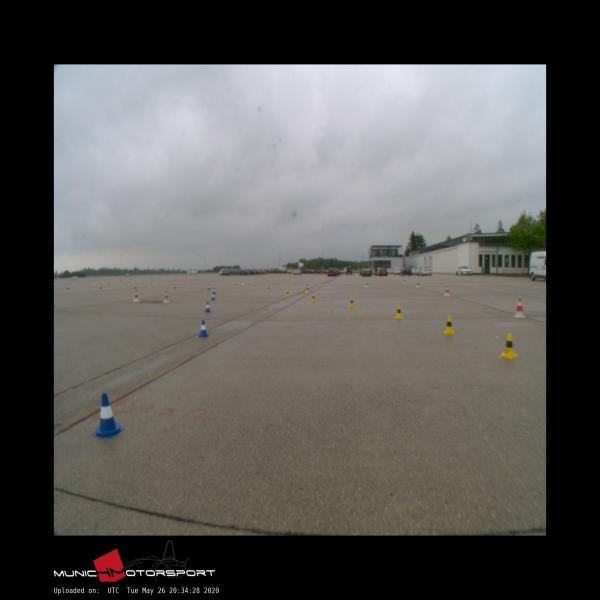blue_cone: (92, 393, 124, 439), (198, 320, 209, 336), (204, 301, 211, 312), (211, 292, 215, 300), (212, 288, 216, 294)
yellow_cone: (500, 333, 518, 359), (443, 316, 454, 334), (394, 305, 403, 318), (349, 297, 355, 307), (311, 293, 316, 302), (286, 290, 290, 296), (267, 285, 271, 291)
